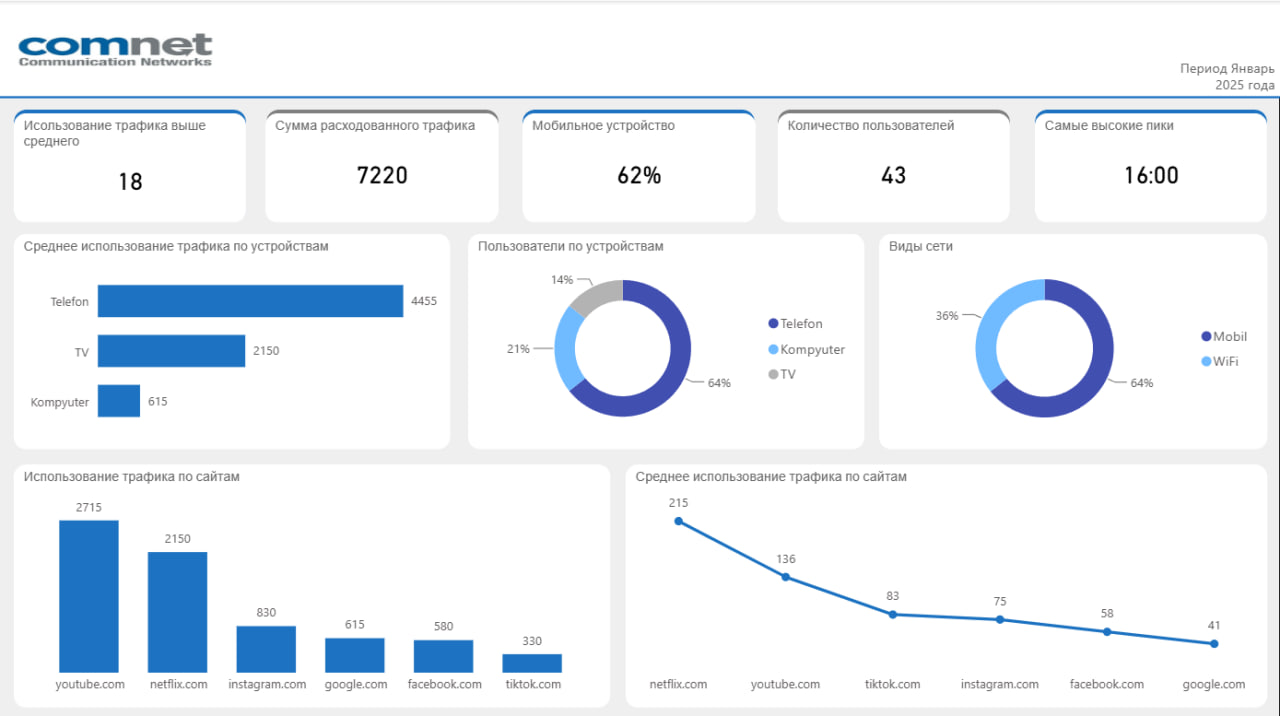

The page's visual inventory and layout, read from the dashboard file:
{"tool":"powerbi","page":{"name":"Страница 1","canvas":[1280,720],"ordinal":0},"visuals":[{"type":"shape","box":[0,0,1280,96.7],"z":0},{"type":"shape","box":[14.7,108.7,232.1,112.3],"z":500},{"type":"clusteredColumnChart","title":"Использование трафика по сайтам","fields":{"Category":["Internet.Sayt_Nomi"],"Y":["Sum(Internet.Trafik_Miqdori_MB)"]},"box":[14.7,463.2,595.8,243.1],"z":1000},{"type":"card","title":"Исользование трафика выше среднего","fields":{"Values":["Internet.UsersAboveAverage"]},"box":[14.7,112.3,232.1,108.7],"z":2000},{"type":"image","box":[0,0,233,96.7],"z":3000},{"type":"shape","box":[0,83.8,1280,24.9],"z":4000},{"type":"shape","box":[523.1,108.7,232.1,112.3],"z":4500},{"type":"shape","box":[1035.1,108.7,232.1,112.3],"z":4750},{"type":"card","title":"Мобильное устройство","fields":{"Values":["Internet.Mobile Traffic %"]},"box":[523.1,112.3,233,108.7],"z":5000},{"type":"card","title":"Самые высокие пики","fields":{"Values":["Internet.Peak Hour"]},"box":[1035.1,112.3,232.1,108.7],"z":6000},{"type":"lineChart","title":"Среднее использование трафика по сайтам","fields":{"Category":["Internet.Sayt_Nomi"],"Y":["Avg(Internet.Trafik_Miqdori_MB)"]},"box":[626.4,463,641,243.2],"z":7000},{"type":"shape","box":[267.1,108.7,232.1,112.3],"z":7500},{"type":"shape","box":[778.1,108.7,232.1,112.3],"z":7750},{"type":"clusteredBarChart","title":"Среднее использование трафика по устройствам","fields":{"Category":["Internet.Qurilma_Turi"],"Y":["Sum(Internet.Trafik_Miqdori_MB)"]},"box":[14.7,233,436.5,215.5],"z":8000},{"type":"card","title":"Сумма расходованного трафика","fields":{"Values":["Sum(Internet.Trafik_Miqdori_MB)"]},"box":[266.1,112.3,233,108.7],"z":9000},{"type":"card","title":"Количество пользователей","fields":{"Values":["Count(Internet.Foydalanuvchi_ID)"]},"box":[778.1,112.3,232.1,108.7],"z":10000},{"type":"donutChart","title":"Пользователи по устройствам","fields":{"Category":["Internet.Qurilma_Turi"],"Y":["CountNonNull(Internet.Foydalanuvchi_ID)"]},"box":[468.7,233,396,215.5],"z":11000},{"type":"donutChart","title":"Виды сети","fields":{"Category":["Internet.Tarmoq_Turi"],"Y":["CountNonNull(Internet.Foydalanuvchi_ID)"]},"box":[879.4,233,387.7,215.5],"z":12000},{"type":"textbox","box":[1164,52.5,116,44.2],"z":14000}]}

Visuals, with their boxes in screenshot pixels (x1, y1, x2, y2), scaled from the page's 1280x720 canvas onto the 1280x716 screenshot:
shape: region(0, 0, 1279, 96)
shape: region(15, 108, 247, 220)
"Использование трафика по сайтам" clusteredColumnChart: region(15, 461, 610, 702)
"Исользование трафика выше среднего" card: region(15, 112, 247, 220)
image: region(0, 0, 233, 96)
shape: region(0, 83, 1279, 108)
shape: region(523, 108, 755, 220)
shape: region(1035, 108, 1267, 220)
"Мобильное устройство" card: region(523, 112, 756, 220)
"Самые высокие пики" card: region(1035, 112, 1267, 220)
"Среднее использование трафика по сайтам" lineChart: region(626, 460, 1267, 702)
shape: region(267, 108, 499, 220)
shape: region(778, 108, 1010, 220)
"Среднее использование трафика по устройствам" clusteredBarChart: region(15, 232, 451, 446)
"Сумма расходованного трафика" card: region(266, 112, 499, 220)
"Количество пользователей" card: region(778, 112, 1010, 220)
"Пользователи по устройствам" donutChart: region(469, 232, 865, 446)
"Виды сети" donutChart: region(879, 232, 1267, 446)
textbox: region(1164, 52, 1279, 96)
